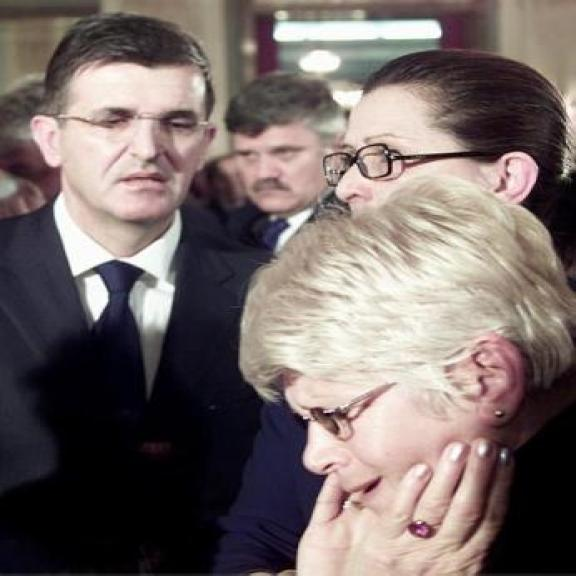face: (283, 335, 543, 539), (31, 60, 218, 230), (338, 91, 536, 230), (229, 121, 329, 210)
